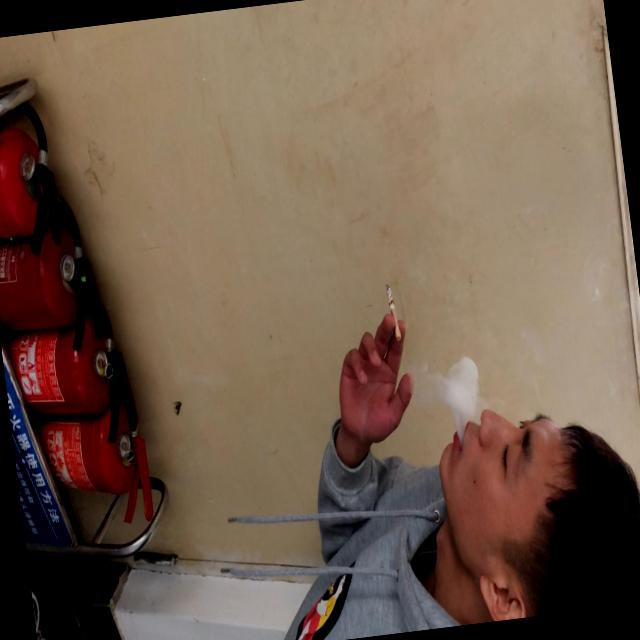cigarette: (382, 281, 402, 343)
